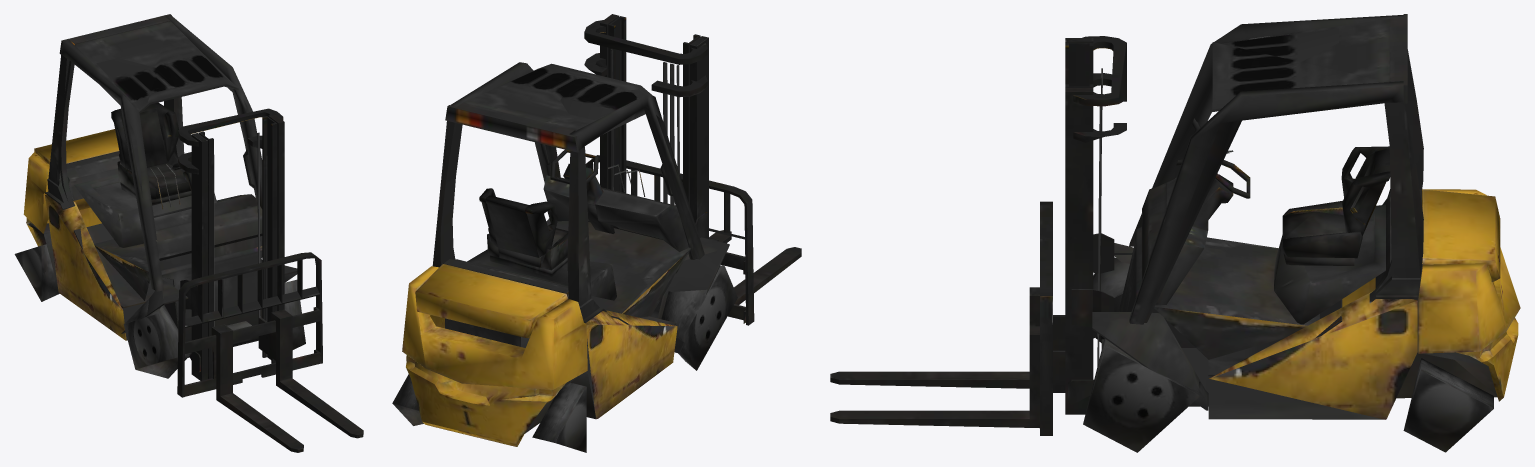
The model's file is forklift.lod0.glb.
3 views of the same model, side by side, from view 1: azimuth 30°, elevation 25°; view 2: azimuth 150°, elevation 25°; view 3: azimuth 270°, elevation 25° (orthographic). The views are drawn at different scales.
Parts seen in each view (by area): view 1: Loader_car_Loader_car_Material_0; view 2: Loader_car_Loader_car_Material_0; view 3: Loader_car_Loader_car_Material_0.
Part boxes in pixels (x1,y1,x2,y2): Loader_car_Loader_car_Material_0: (14,14,363,452); Loader_car_Loader_car_Material_0: (392,14,801,452); Loader_car_Loader_car_Material_0: (830,14,1520,452).
Bounding box in the file's own units: 1.01 × 1.83 × 3.2.
Materials: 1 (1 with a texture image).
